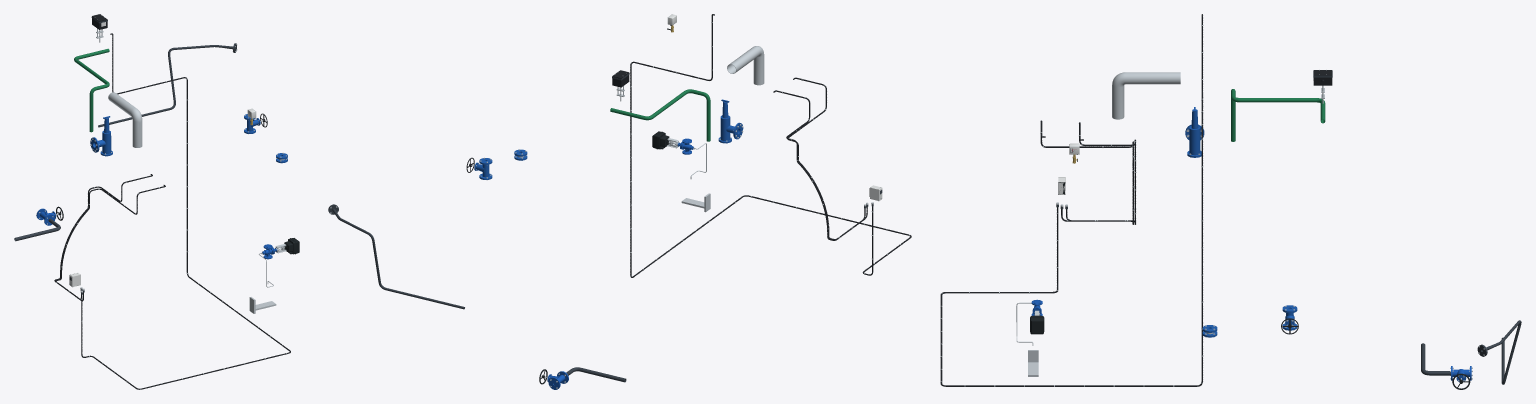
The model's file is s4000-6-DXrin0eV.glb.
3 renders of one model, left to right at view 1: azimuth 30°, elevation 25°; view 2: azimuth 150°, elevation 25°; view 3: azimuth 270°, elevation 25°, orthographic. The views are drawn at different scales.
Visible parts, largest first — view 1: gpz_drive_cable / black, steam_rise / steel, tds_without_fv / dark, direct_inlet / green, safety_1 / blue, bcv925 / bcv925_0.npz, wiring_low_level_1 / black, wiring_lp400 / black, sample_piping / steel, drain_isolation_2 / drain_isolation_2_0.npz; view 2: gpz_drive_cable / black, steam_rise / steel, tds_without_fv / dark, direct_inlet / green, safety_1 / blue, bcv925 / bcv925_0.npz; view 3: gpz_drive_cable / black, steam_rise / steel, direct_inlet / green, tds_without_fv / dark, safety_1 / blue, wiring_low_level_1 / black.
Boxes of the visible parts, left/top/right/bottom form: gpz_drive_cable / black: left=81, top=33, right=290, bottom=389; steam_rise / steel: left=108, top=92, right=142, bottom=147; tds_without_fv / dark: left=98, top=43, right=236, bottom=127; direct_inlet / green: left=74, top=53, right=109, bottom=132; safety_1 / blue: left=90, top=116, right=112, bottom=156; bcv925 / bcv925_0.npz: left=262, top=238, right=299, bottom=259; wiring_low_level_1 / black: left=55, top=185, right=165, bottom=301; wiring_lp400 / black: left=54, top=174, right=152, bottom=299; sample_piping / steel: left=249, top=252, right=276, bottom=313; drain_isolation_2 / drain_isolation_2_0.npz: left=36, top=206, right=63, bottom=225; gpz_drive_cable / black: left=630, top=14, right=911, bottom=277; steam_rise / steel: left=727, top=46, right=764, bottom=85; tds_without_fv / dark: left=328, top=204, right=464, bottom=309; direct_inlet / green: left=629, top=89, right=710, bottom=141; safety_1 / blue: left=718, top=99, right=743, bottom=143; bcv925 / bcv925_0.npz: left=652, top=131, right=693, bottom=154; gpz_drive_cable / black: left=940, top=14, right=1203, bottom=386; steam_rise / steel: left=1112, top=72, right=1180, bottom=119; direct_inlet / green: left=1231, top=89, right=1325, bottom=141; tds_without_fv / dark: left=1477, top=320, right=1521, bottom=384; safety_1 / blue: left=1185, top=107, right=1204, bottom=157; wiring_low_level_1 / black: left=1040, top=120, right=1133, bottom=224.
Bounding box in the file's own units: 4.55 × 3.56 × 5.45.
